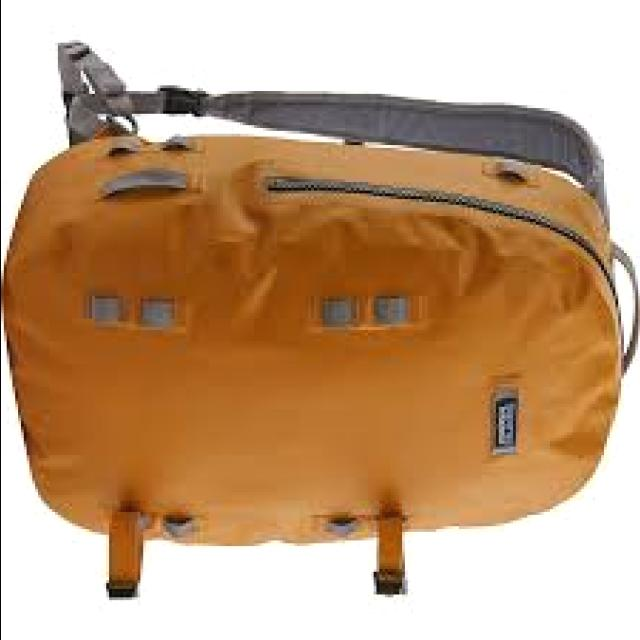backpack: (4, 41, 640, 599)
